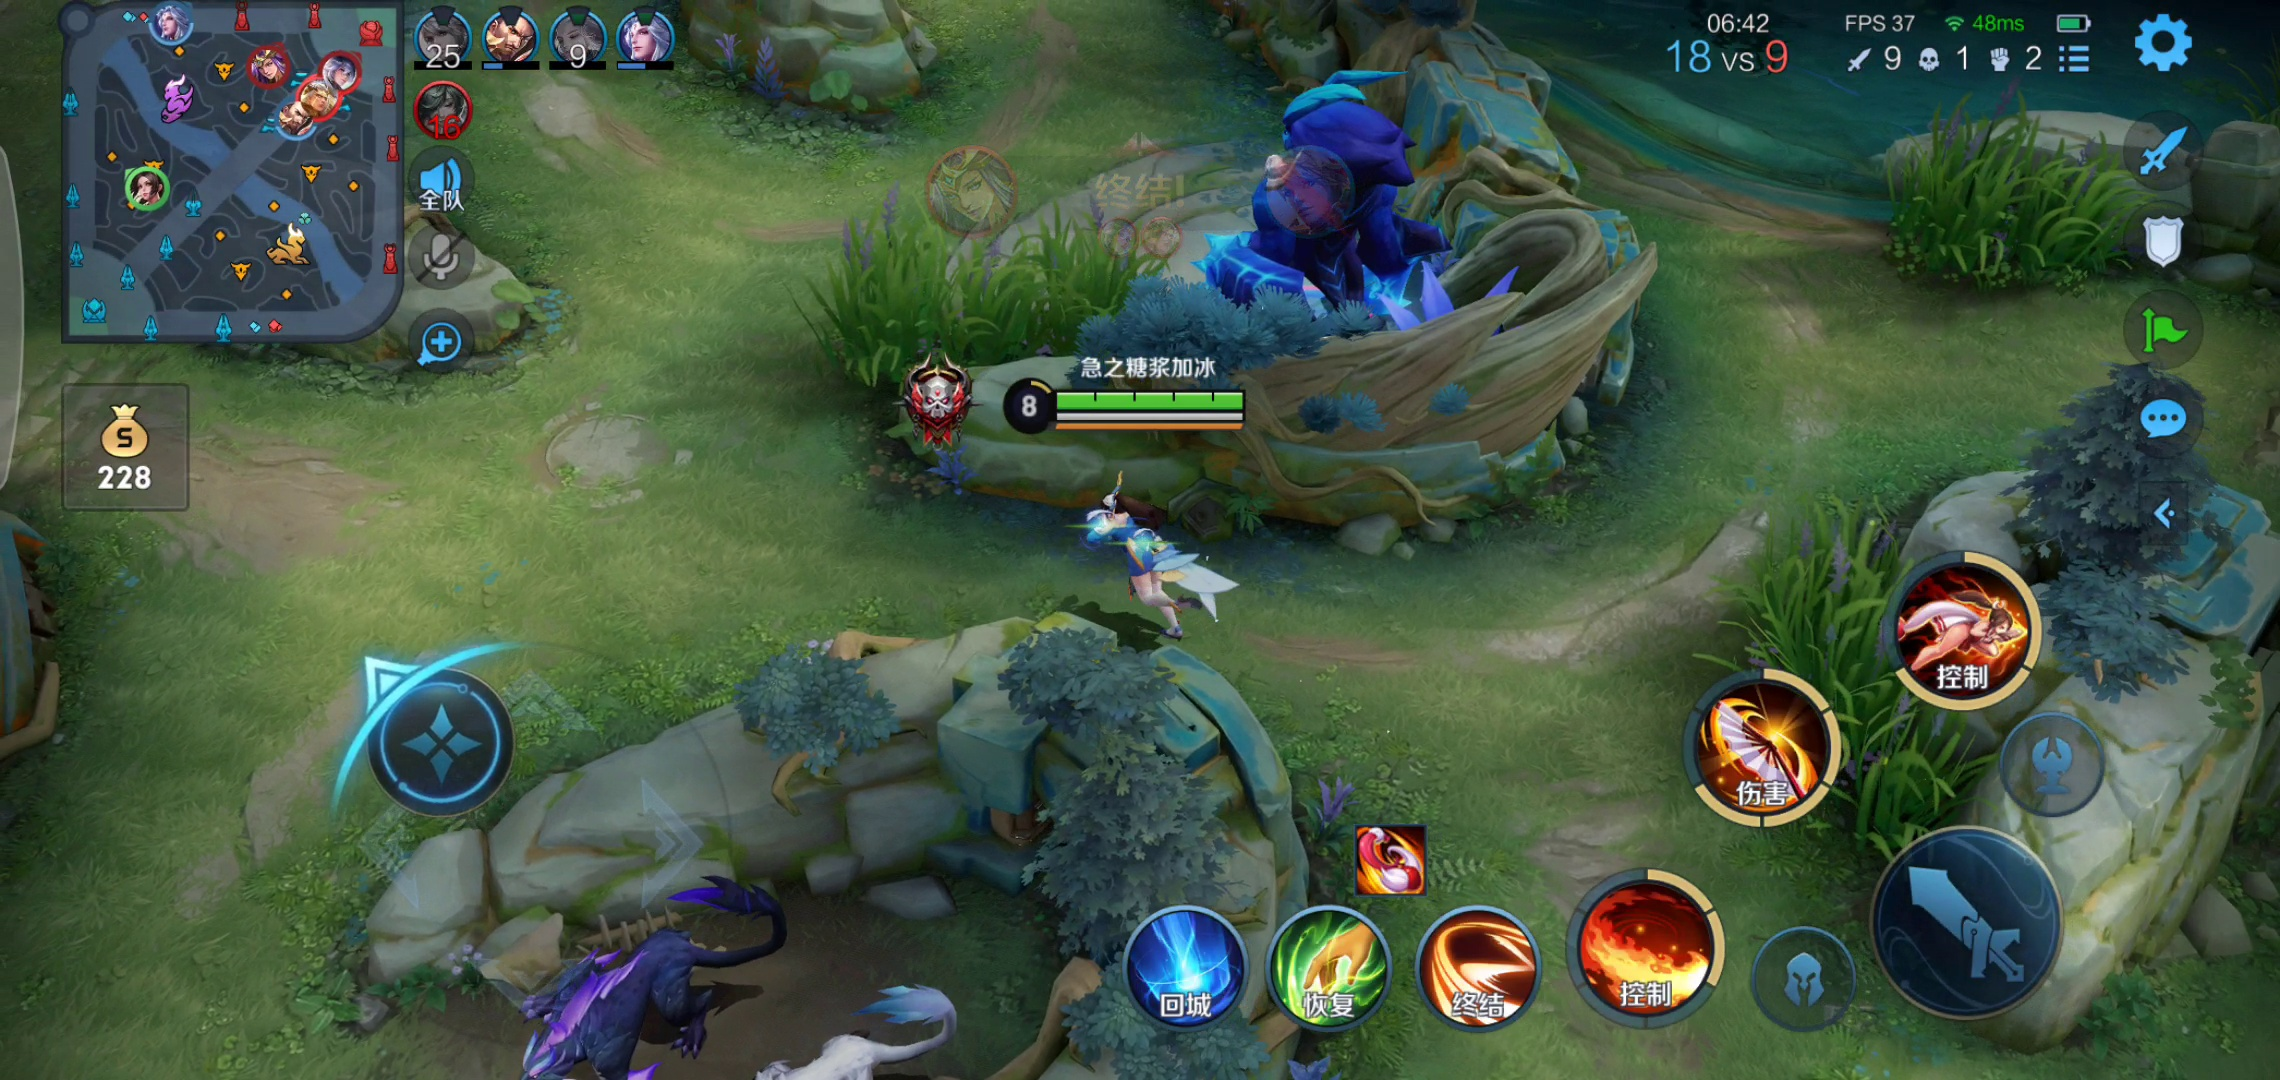buff: (1200, 77, 1437, 356)
grass: (1749, 512, 1946, 855), (801, 209, 1136, 382), (1886, 116, 2136, 285)
hero: (1048, 470, 1243, 624)
wild_monster: (487, 850, 964, 1079)
